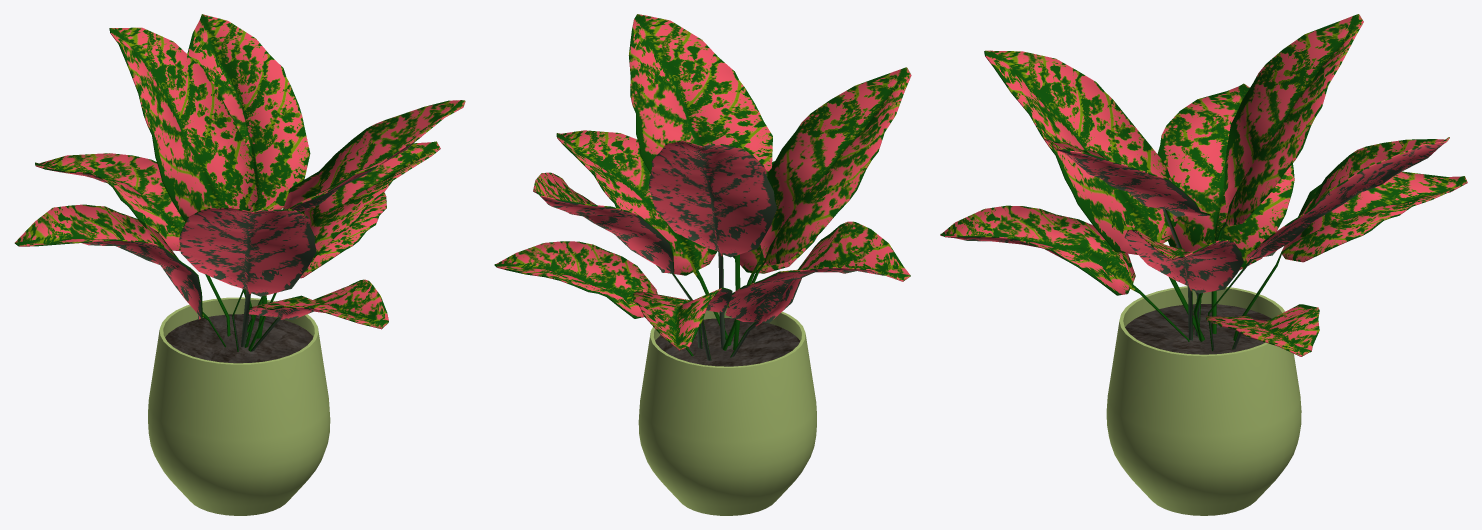
The model's file is aglaonema_plant.glb.
3 views of the same model, side by side, from view 1: azimuth 30°, elevation 25°; view 2: azimuth 150°, elevation 25°; view 3: azimuth 270°, elevation 25° (orthographic). The views are drawn at different scales.
Parts seen in each view (by area): view 1: aglaonema leaf.027_0, pot fat tall.002_2, pot soil.006_1; view 2: aglaonema leaf.027_0, pot fat tall.002_2, pot soil.006_1; view 3: aglaonema leaf.027_0, pot fat tall.002_2, pot soil.006_1.
Part boxes in pixels (bbox=[...]): aglaonema leaf.027_0: bbox=[14, 14, 465, 351]; pot fat tall.002_2: bbox=[148, 297, 330, 515]; pot soil.006_1: bbox=[165, 314, 313, 363]; aglaonema leaf.027_0: bbox=[494, 14, 911, 360]; pot fat tall.002_2: bbox=[638, 306, 816, 515]; pot soil.006_1: bbox=[655, 318, 800, 366]; aglaonema leaf.027_0: bbox=[940, 14, 1467, 356]; pot fat tall.002_2: bbox=[1106, 286, 1301, 515]; pot soil.006_1: bbox=[1125, 304, 1271, 354].
Bounding box in the file's own units: 0.5996 × 0.6156 × 0.6541.
Materials: 4 (3 with a texture image).
